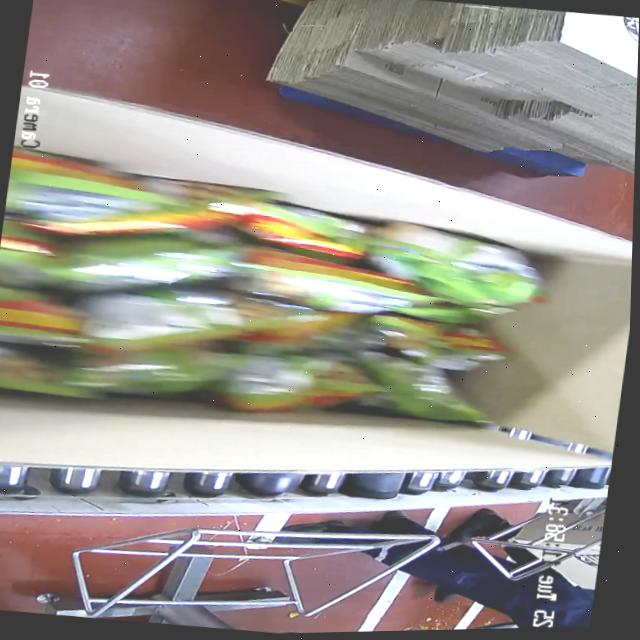YOGURT_HERB: (0, 123, 537, 451)
